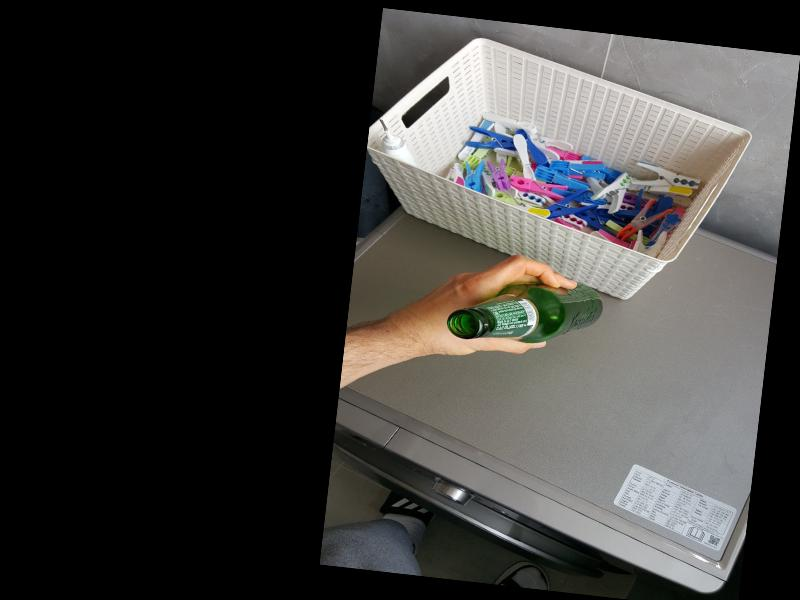Beer: (445, 266, 604, 354)
